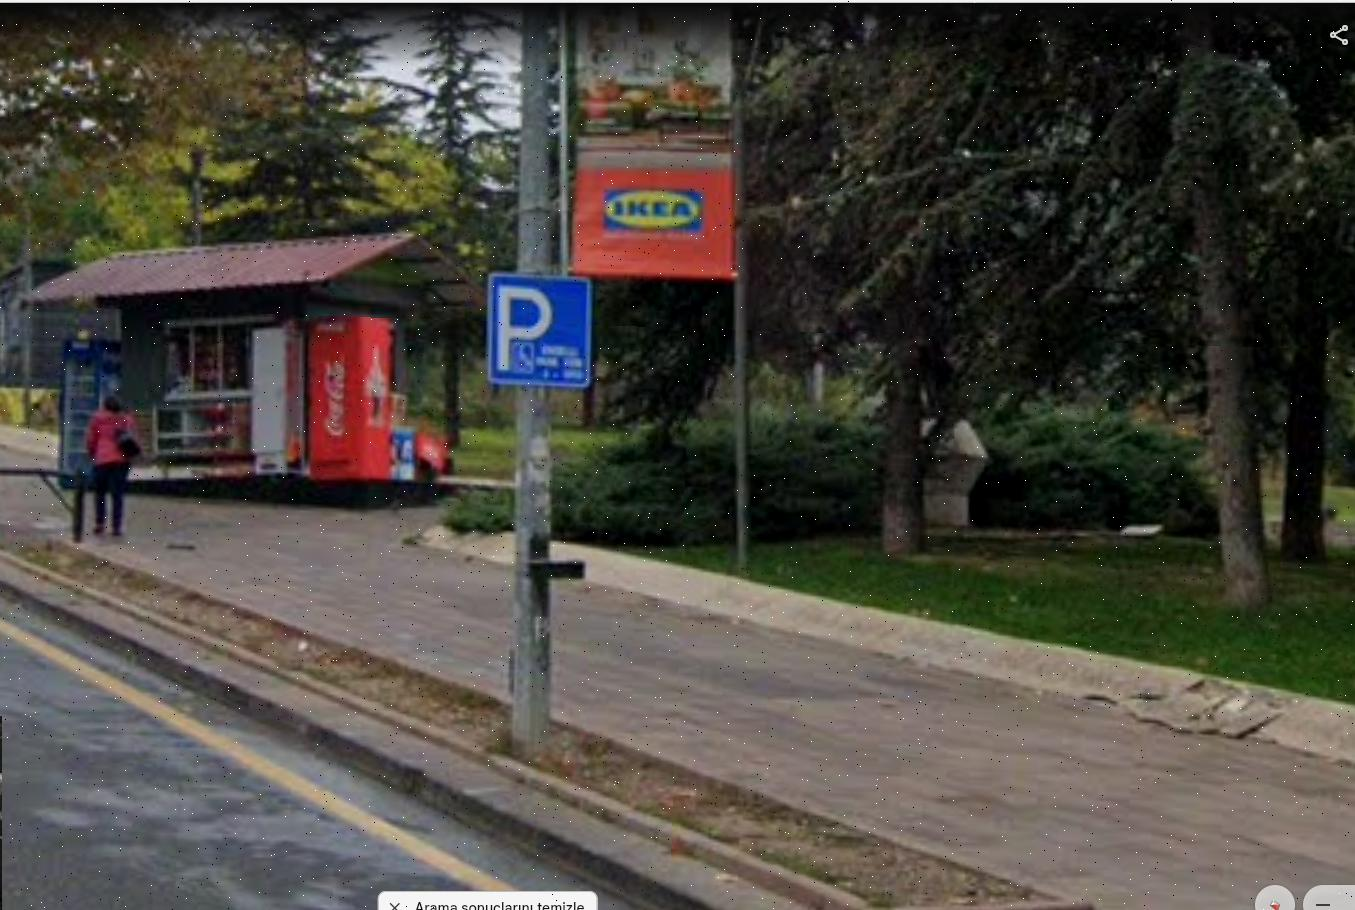park: (491, 274, 588, 382)
